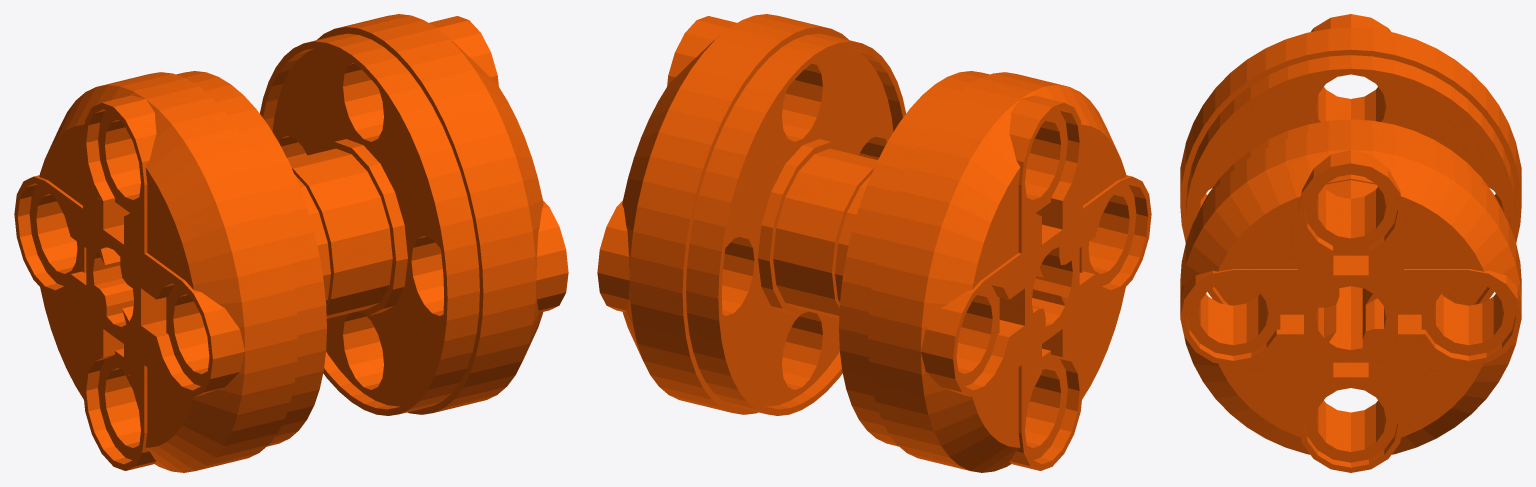
The model's file is servo_hubs.dae.
3 renders of one model, left to right at view 1: azimuth 30°, elevation 25°; view 2: azimuth 150°, elevation 25°; view 3: azimuth 270°, elevation 25°, orthographic. The views are drawn at different scales.
Visible parts, largest first — view 1: node; view 2: node; view 3: node.
Boxes of the visible parts, x1,y1,x2,y2 form: node: (14,14,568,472); node: (597,14,1151,472); node: (1180,14,1521,472).
Bounding box in the file's own units: 59.5 × 57.5 × 57.5.
1 material, 1 textured.
